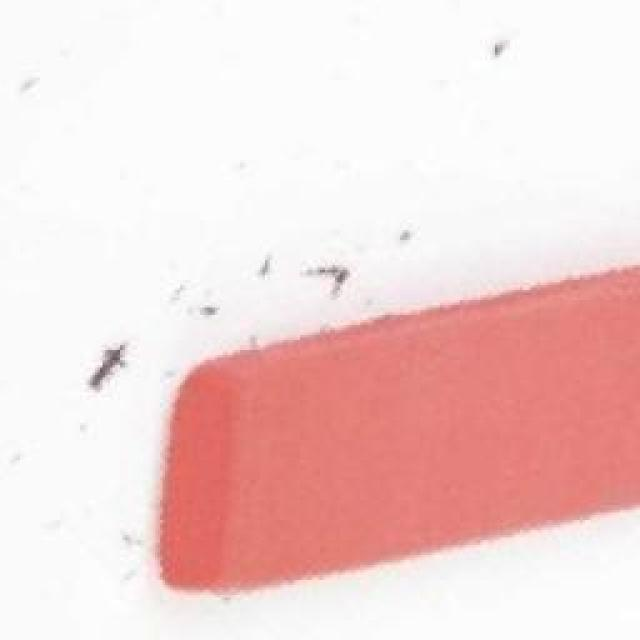Silgi: (160, 258, 640, 590)
